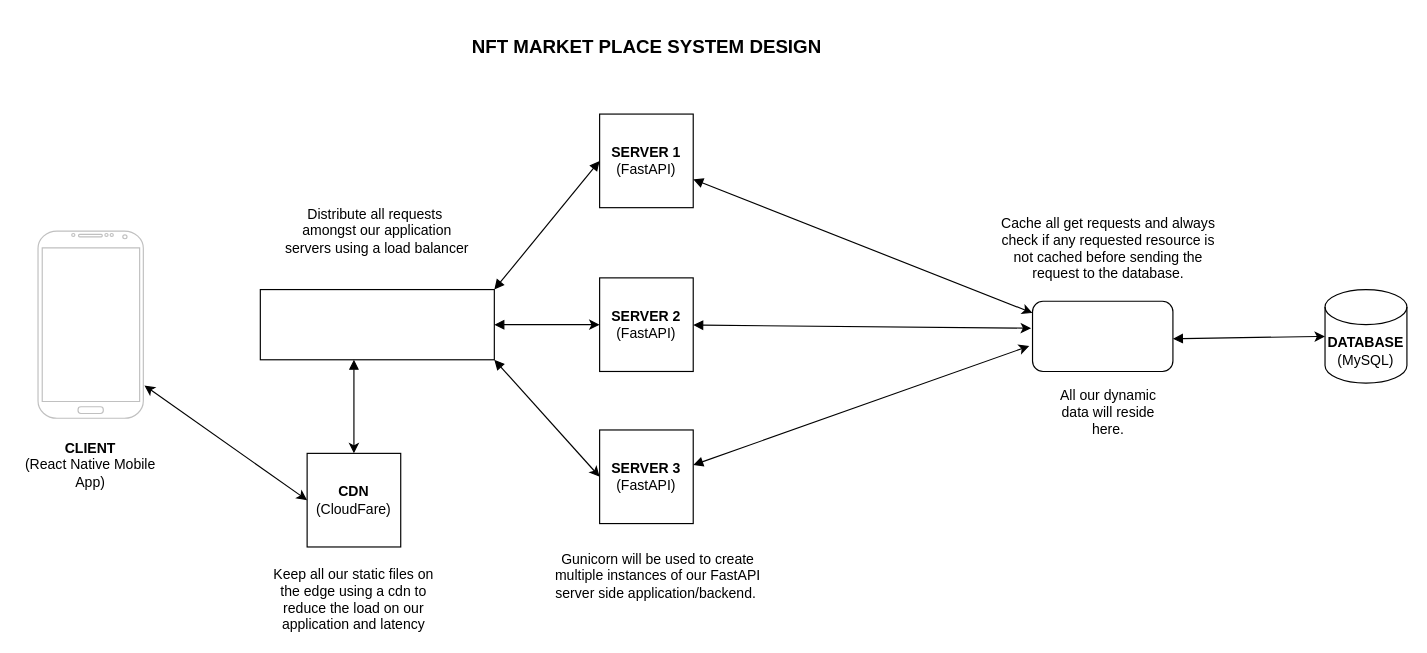
Image size: 1427x653. Some labels were removed from this diagram. Here are the shapes that lost their labels. From the top down, the centre of each, then its label:
At [376,324]: "LOAD BALANCER (Nginx)".
At [1102,335]: "CACHE (Redis)".
